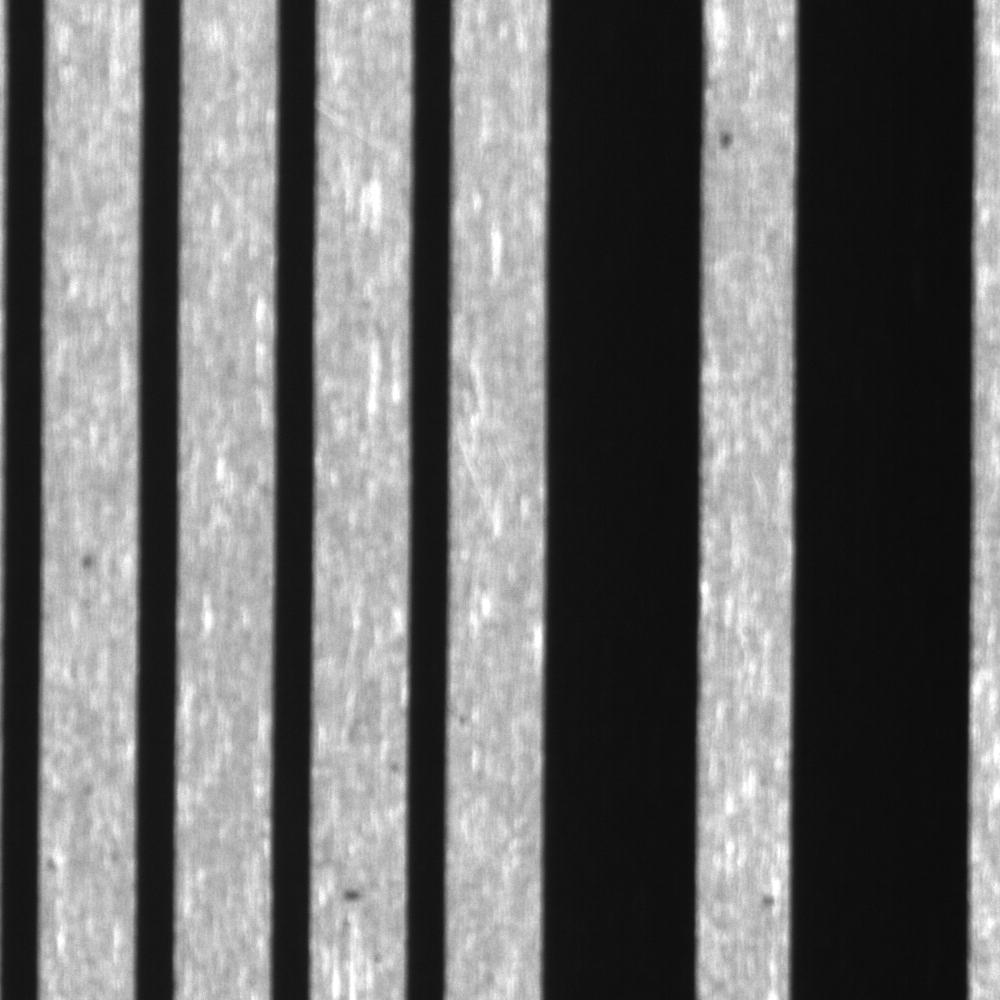Etching: (328, 860, 389, 933)
Pinhole: (746, 860, 788, 941), (709, 111, 759, 167), (64, 538, 107, 580)
